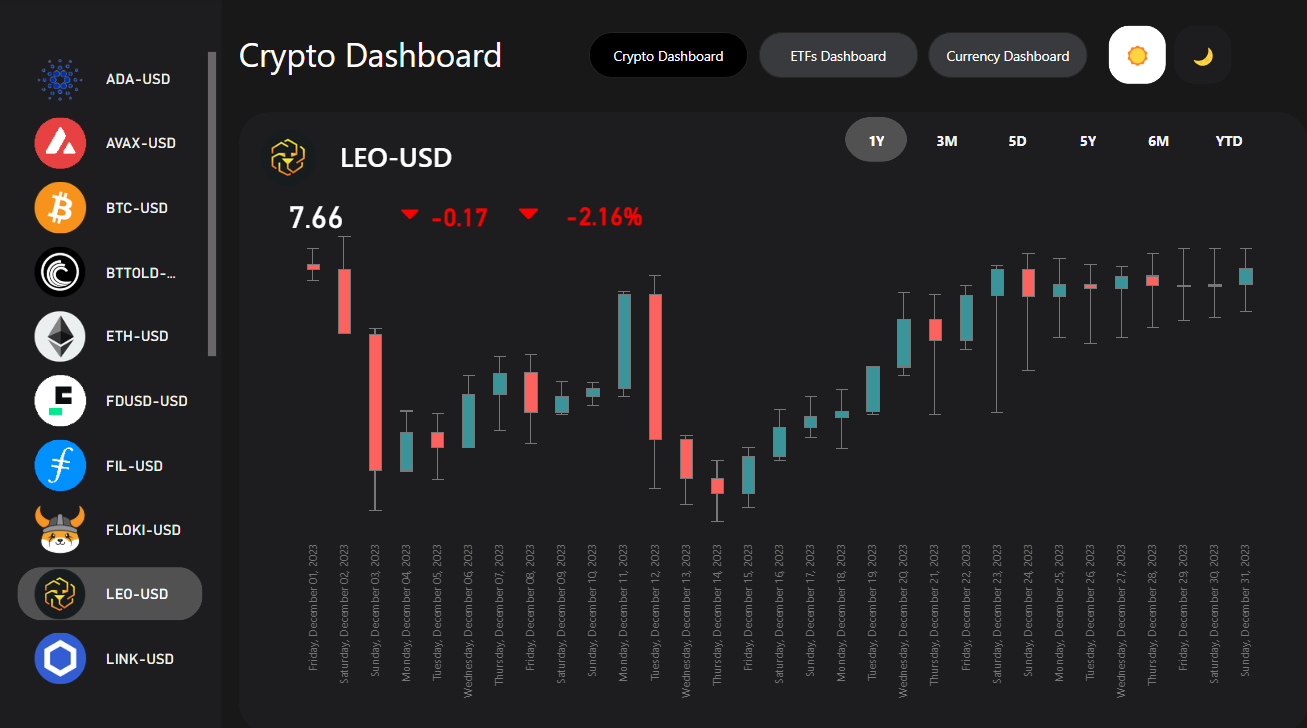

What the dashboard file says about the page in this screenshot:
{"tool":"powerbi","page":{"name":"Crypto Dashboard","canvas":[1280,720],"ordinal":1},"visuals":[{"type":"shape","box":[0,0,1280.3,720.2],"z":0},{"type":"shape","box":[0,0,216.8,720.4],"z":1000},{"type":"shape","box":[233.6,112.5,1046.7,607.7],"z":2000},{"type":"PBI_CV_886A053E_9DFD_4EA0_A47D_CCAEB89AF969","fields":{"Category":["Stocks Data.Date"],"open":["Sum(Stocks Data.Open)"],"close":["Sum(Stocks Data.Close)"],"high":["Sum(Stocks Data.High)"],"low":["Sum(Stocks Data.Low)"]},"box":[233.3,186.6,1047,533.8],"z":3000},{"type":"advancedSlicerVisual","fields":{"Values":["Stocks Data.Symbol"]},"box":[12.3,49.4,204.5,635.3],"z":4000},{"type":"advancedSlicerVisual","fields":{"Values":["Stocks Data.Date Category"]},"box":[822,112.5,419.9,54.9],"z":5000},{"type":"advancedSlicerVisual","fields":{"Values":["Sheet1.Icon"]},"box":[1079.9,23.3,131.7,67.2],"z":6000},{"type":"cardVisual","fields":{"Data":["CountNonNull(Stocks Data.Logo)"]},"box":[233.3,112.5,101.5,90.6],"z":7000},{"type":"cardVisual","fields":{"Data":["Min(Stocks Data.Symbol)"]},"box":[315.6,112.5,204.5,76.8],"z":8000},{"type":"card","fields":{"Values":["Stocks Data.Open_value"]},"box":[215.4,113.9,188,199],"z":9000},{"type":"card","fields":{"Values":["Stocks Data.Open_close_diff"]},"box":[377.4,164.7,142.7,100.2],"z":10000},{"type":"card","fields":{"Values":["Stocks Data.Diff%"]},"box":[520.1,163.3,142.7,100.2],"z":11000},{"type":"cardVisual","fields":{"Data":["CountNonNull(Stocks Data.Logo)"]},"box":[370.5,178.4,65.9,72.7],"z":12000},{"type":"cardVisual","fields":{"Data":["CountNonNull(Stocks Data.Logo)"]},"box":[485.8,178.4,67.2,71.4],"z":13000},{"type":"shape","box":[233.6,8.6,836.4,92.9],"z":14000},{"type":"pageNavigator","box":[576,34.2,490.4,45.2],"z":15000}]}

Visuals, with their boxes in screenshot pixels (x1, y1, x2, y2), scaled from the page's 1280x720 canvas onto the 1307x728 screenshot:
shape: locate(0, 0, 1306, 727)
shape: locate(0, 0, 221, 727)
shape: locate(239, 114, 1306, 727)
PBI_CV_886A053E_9DFD_4EA0_A47D_CCAEB89AF969 - Stocks Data.Date x Sum(Stocks Data.Open): locate(238, 189, 1306, 727)
advancedSlicerVisual - Stocks Data.Symbol: locate(13, 50, 221, 692)
advancedSlicerVisual - Stocks Data.Date Category: locate(839, 114, 1268, 169)
advancedSlicerVisual - Sheet1.Icon: locate(1103, 24, 1237, 92)
cardVisual - CountNonNull(Stocks Data.Logo): locate(238, 114, 342, 205)
cardVisual - Min(Stocks Data.Symbol): locate(322, 114, 531, 191)
card - Stocks Data.Open_value: locate(220, 115, 412, 316)
card - Stocks Data.Open_close_diff: locate(385, 167, 531, 268)
card - Stocks Data.Diff%: locate(531, 165, 677, 266)
cardVisual - CountNonNull(Stocks Data.Logo): locate(378, 180, 446, 254)
cardVisual - CountNonNull(Stocks Data.Logo): locate(496, 180, 565, 253)
shape: locate(239, 9, 1093, 103)
pageNavigator: locate(588, 35, 1089, 80)
